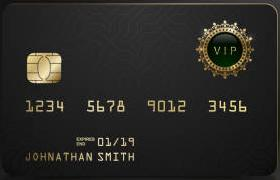payment_card: (1, 1, 280, 180)
